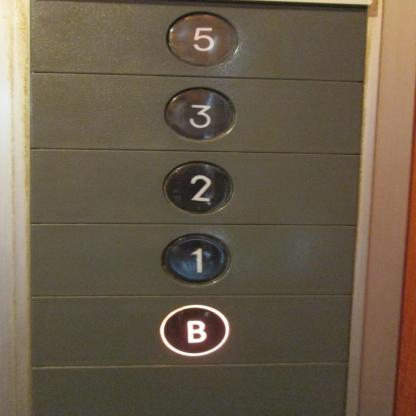1: (158, 231, 233, 286)
2: (161, 158, 234, 216)
3: (163, 85, 239, 143)
5: (165, 9, 240, 67)
B: (155, 303, 233, 356)
